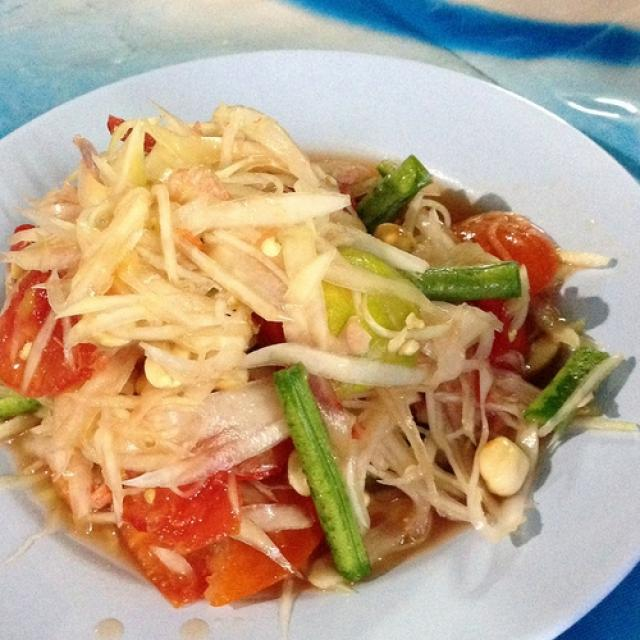蔬菜料理: (16, 69, 620, 597)
